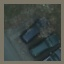car: (23, 16, 48, 43), (28, 36, 58, 57)
